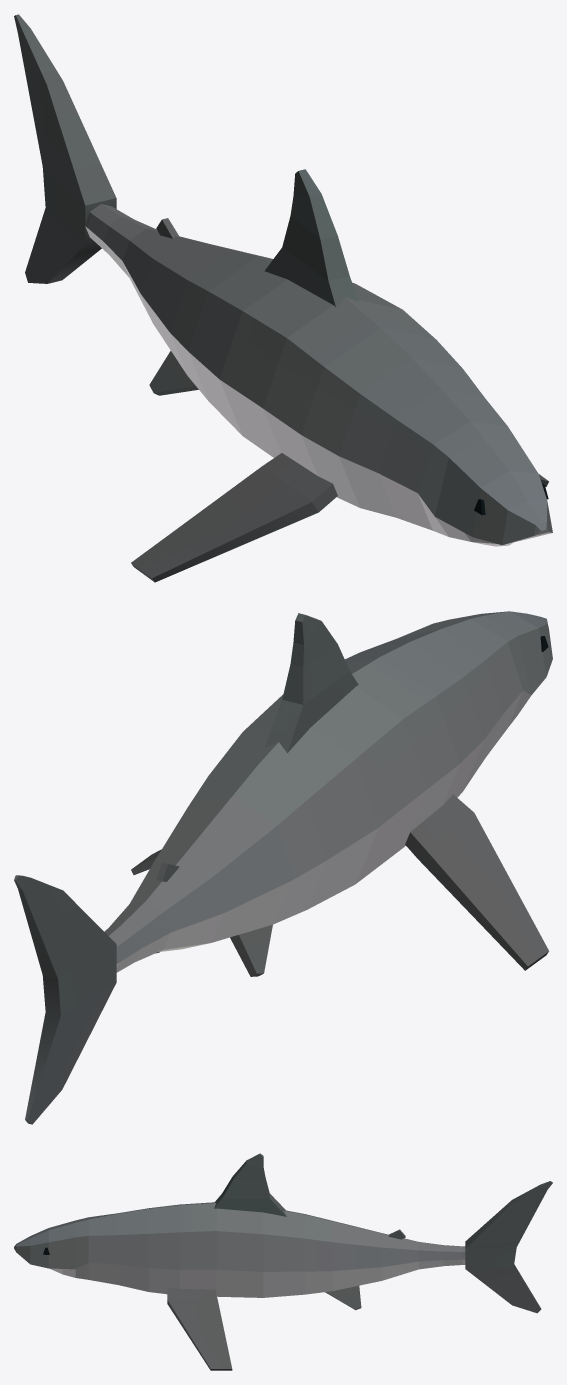
File: other-shark-287.glb
3 renders of one model, top to bottom at view 1: azimuth 30°, elevation 25°; view 2: azimuth 150°, elevation 25°; view 3: azimuth 270°, elevation 25°, orthographic. The views are drawn at different scales.
Parts seen in each view (by area): view 1: Geo_Shark; view 2: Geo_Shark; view 3: Geo_Shark.
Part boxes in pixels (box(x1,y1,x2,y2)): Geo_Shark: box(14, 14, 552, 582); Geo_Shark: box(14, 611, 552, 1124); Geo_Shark: box(14, 1153, 552, 1370).
Size of the model in its own units: 76.37 by 60.5 by 176.
Materials: 1 (1 with a texture image).
